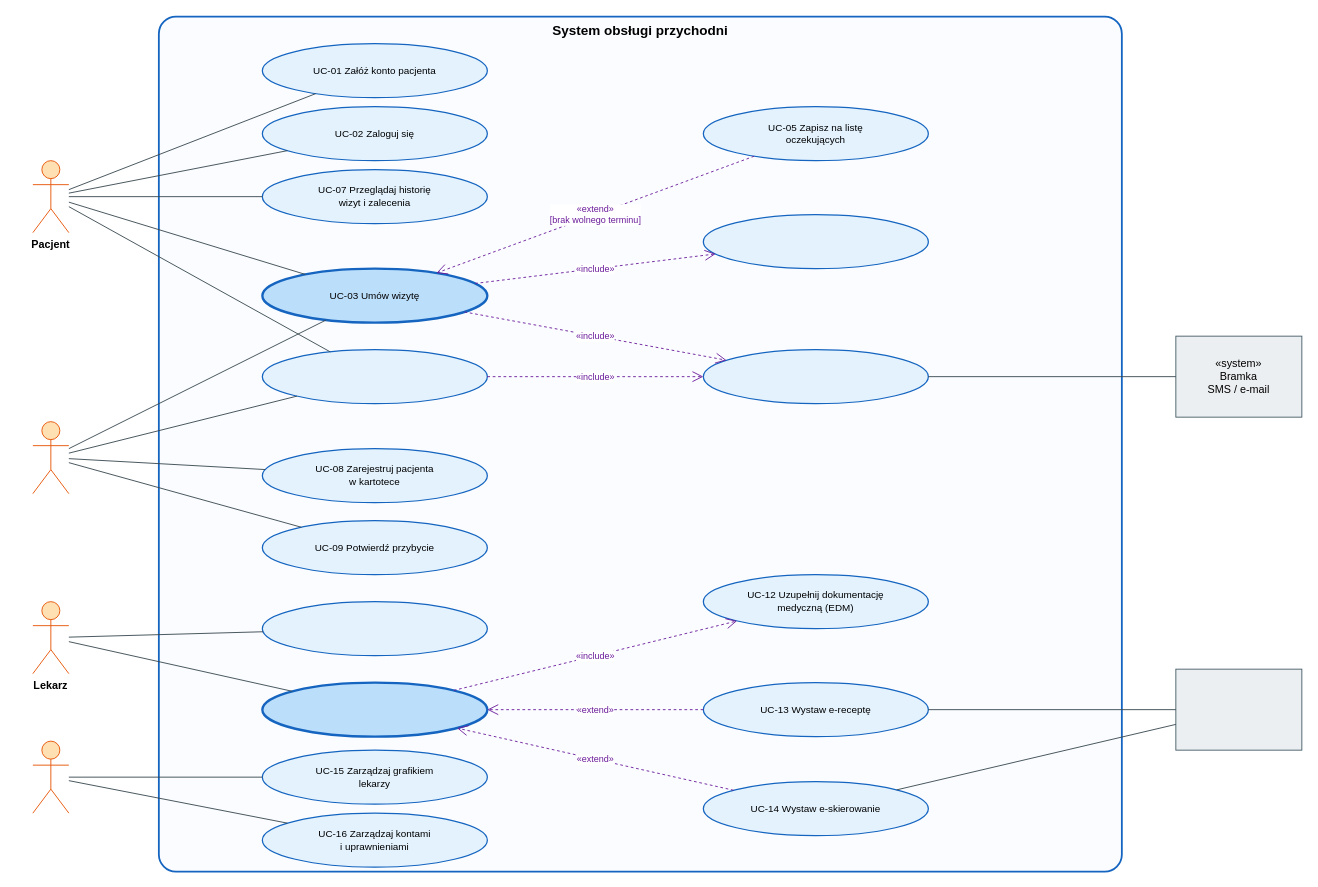
This 1318x887 diagram has some shape labels left out. The shapes that lost their labels are listed below. From the top down, each one's centre as x and y in pixels, then its label:
At (815,241): "UC-04 Wyszukaj wolny termin".
At (374,376): "UC-06 Odwołaj / przełóż wizytę".
At (815,376): "UC-17 Wyślij powiadomienie (SMS / e-mail)".
At (50,457): "Rejestratorka".
At (374,628): "UC-10 Przeglądaj swój grafik".
At (374,709): "UC-11 Przeprowadź wizytę".
At (1238,709): "«system» System P1 (e-zdrowie)".
At (50,776): "Administrator".
